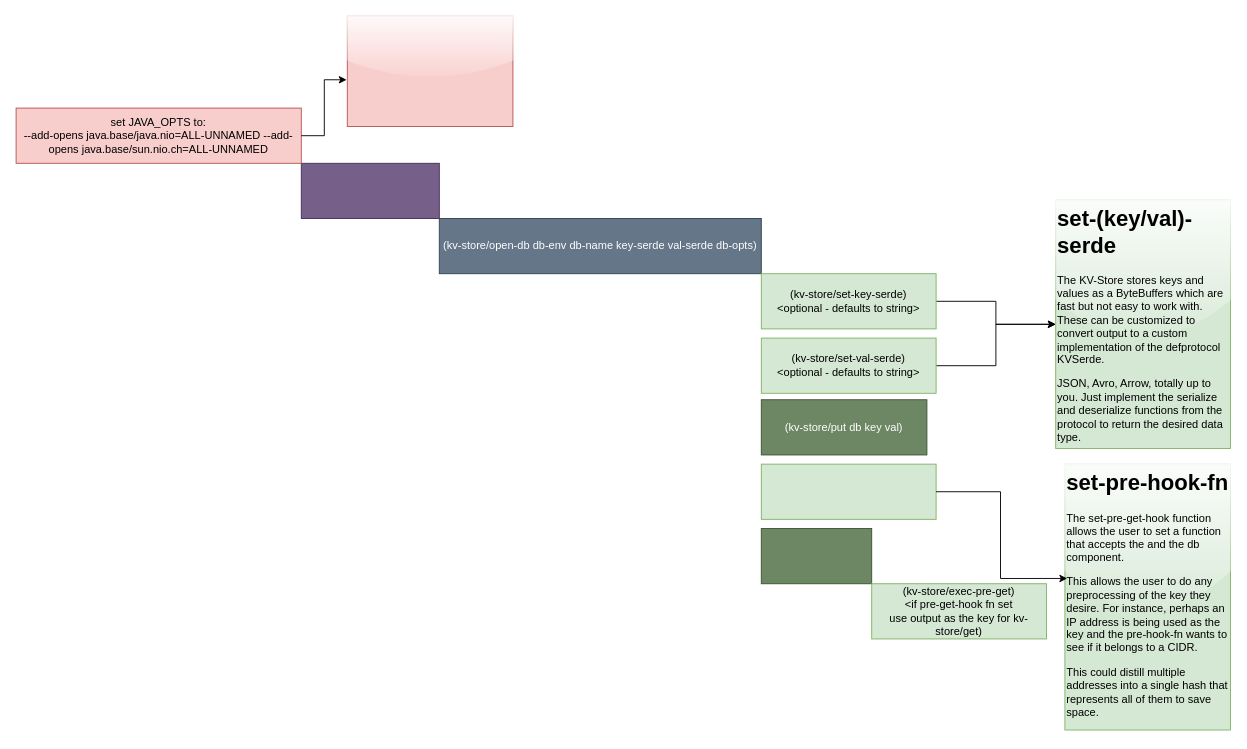
This 1247x749 diagram has some shape labels left out. Each missing label, with the box of its shape:
(kv-store/get db key: (760, 528, 872, 584)
(kv-store/set-pre-get-hook pre-fn) <optional>: (760, 463, 936, 519)
(kv-store/start dir env-opts): (300, 162, 439, 218)
Important! If the JAVA_OPTS aren't set, the kv-store will fail to start up!: (346, 15, 513, 126)
